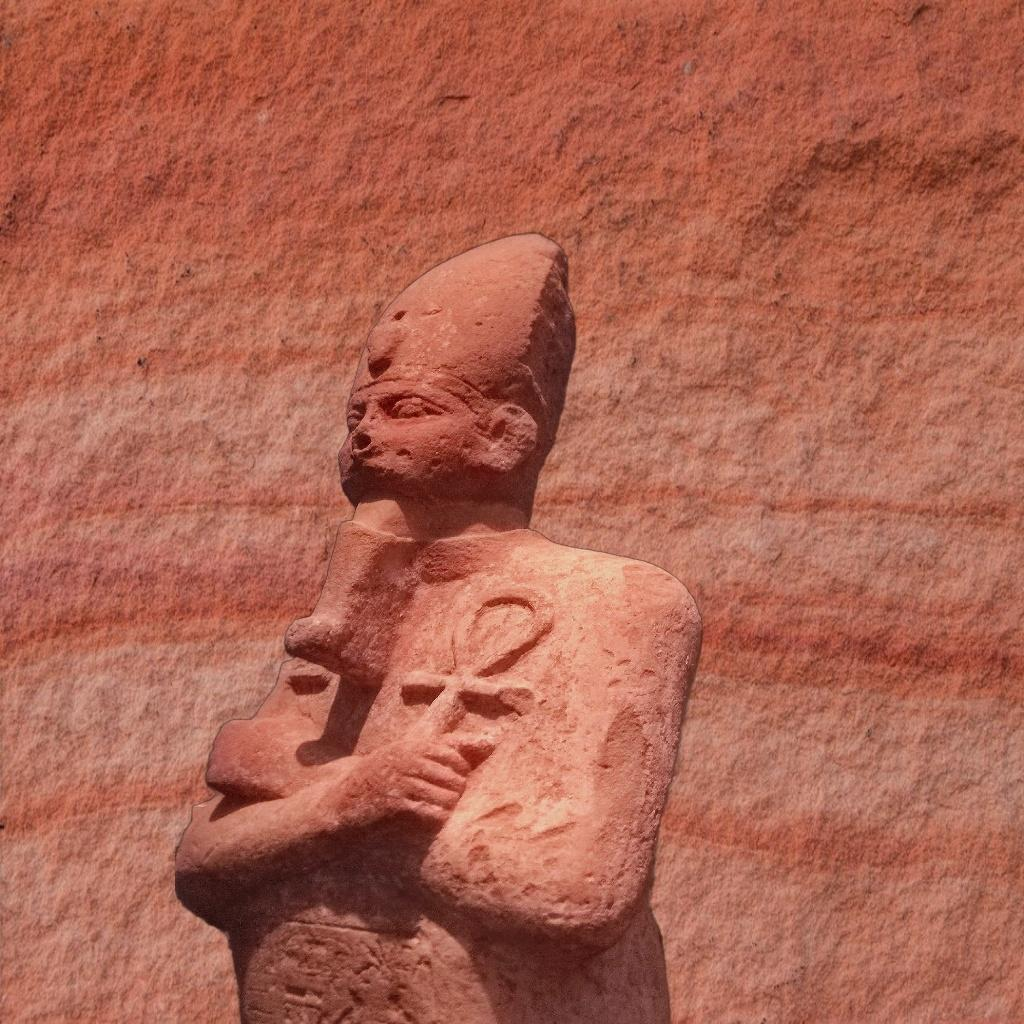Statue of Mentuhotep II: (174, 221, 740, 1024)
